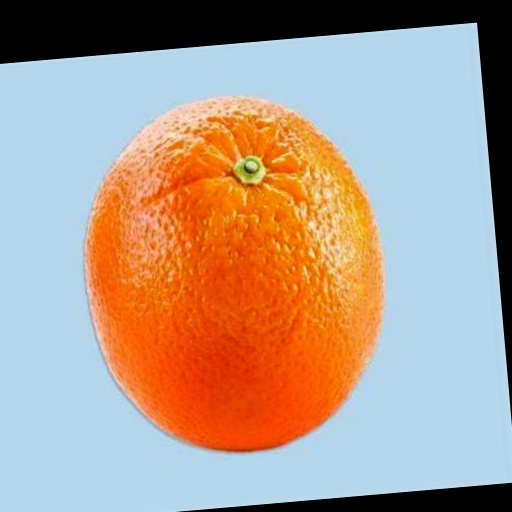fruit: (85, 97, 383, 450)
